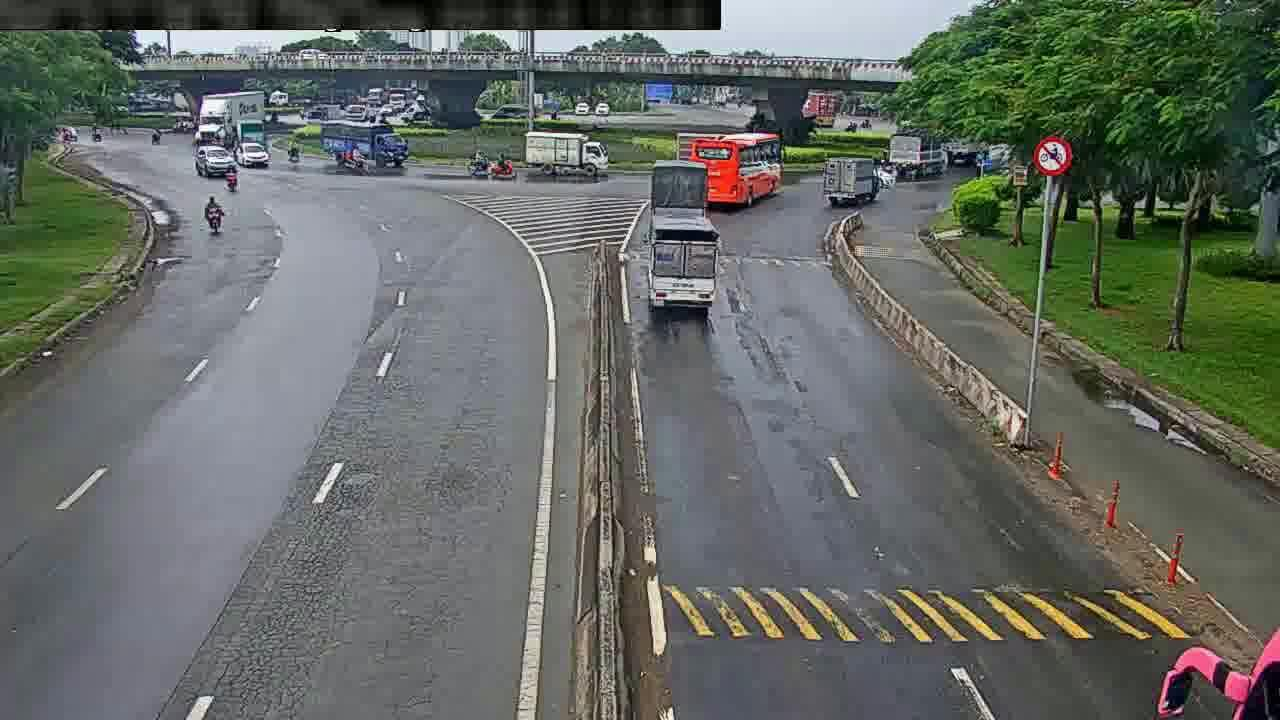car: (192, 142, 240, 178), (233, 138, 279, 170)
container: (645, 206, 722, 314), (318, 120, 413, 169), (523, 129, 612, 173), (886, 128, 955, 178), (648, 160, 711, 212), (822, 154, 880, 207)
motorbike: (203, 197, 232, 234), (488, 152, 518, 179), (465, 150, 488, 176)
